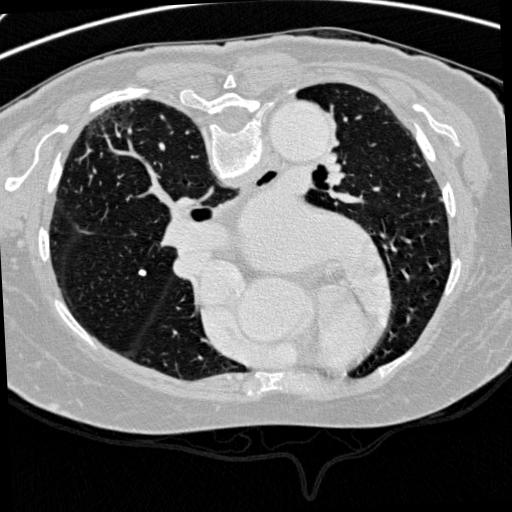nodule: (135, 268, 148, 281)
